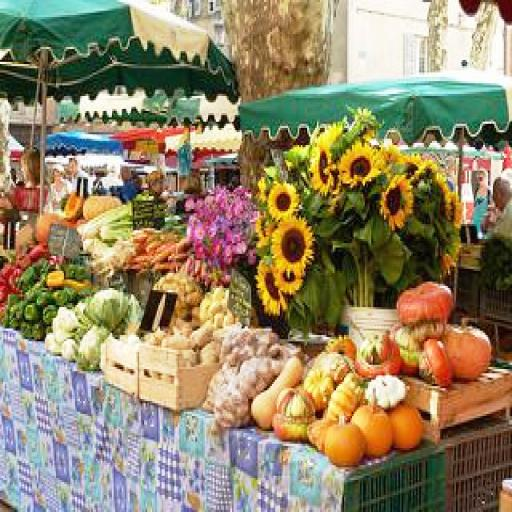sunflower: (270, 216, 316, 273), (253, 256, 285, 316), (336, 141, 381, 181), (382, 173, 410, 228), (312, 135, 333, 194), (267, 182, 299, 214)
